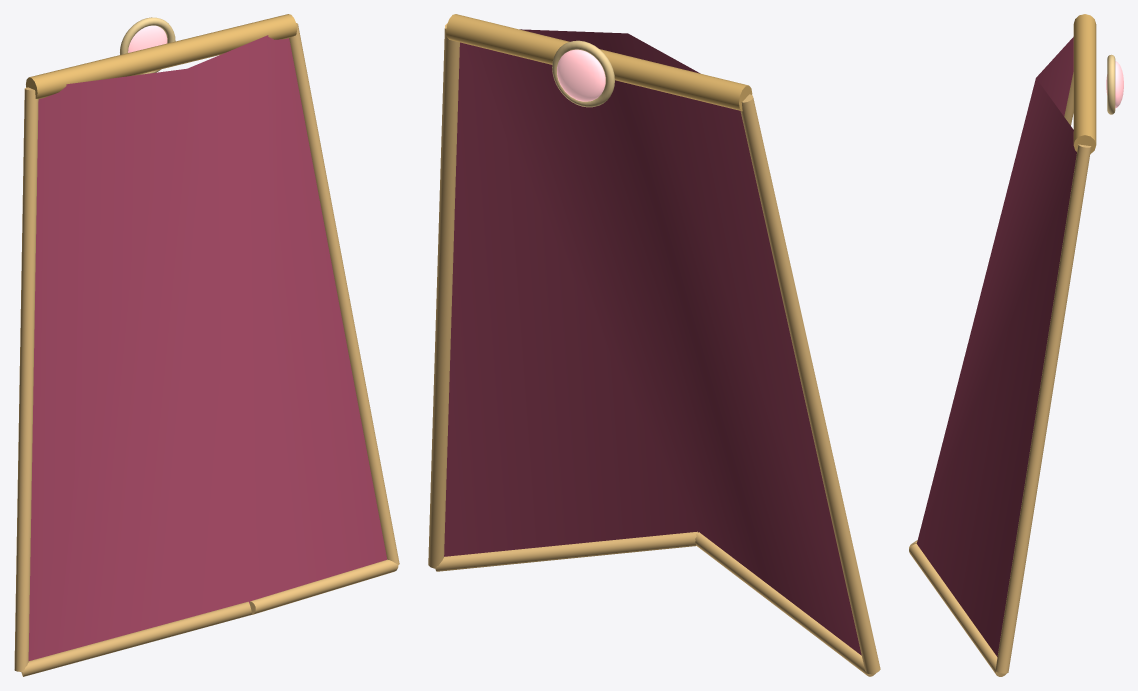
The model's file is cape.glb.
3 renders of one model, left to right at view 1: azimuth 30°, elevation 25°; view 2: azimuth 150°, elevation 25°; view 3: azimuth 270°, elevation 25°, orthographic. The views are drawn at different scales.
Parts seen in each view (by area): view 1: DrapedFabric, LeftHem, RightHem, Collar, ScallopHem, _MeshInstance3D_8, GoldBezel, EnamelGem; view 2: DrapedFabric, LeftHem, RightHem, Collar, _MeshInstance3D_8, ScallopHem, EnamelGem, GoldBezel; view 3: DrapedFabric, RightHem, Collar, _MeshInstance3D_8, GoldBezel, EnamelGem.
Part boxes in pixels (x1,y1,x2,y2): DrapedFabric: (28,35,387,660); LeftHem: (14,87,38,671); RightHem: (289,23,399,565); Collar: (26,14,297,98); ScallopHem: (21,601,251,676); _MeshInstance3D_8: (250,559,398,614); GoldBezel: (120,17,175,74); EnamelGem: (128,25,167,52); DrapedFabric: (444,29,861,655); LeftHem: (740,94,880,674); RightHem: (428,23,459,568); Collar: (446,14,752,111); _MeshInstance3D_8: (435,531,697,571); ScallopHem: (695,532,875,676); EnamelGem: (557,49,605,101); GoldBezel: (552,40,614,107); DrapedFabric: (916,36,1076,656); RightHem: (995,144,1091,673); Collar: (1073,14,1096,153); _MeshInstance3D_8: (909,544,1006,676); GoldBezel: (1107,54,1115,114); EnamelGem: (1106,61,1123,108).
Size of the model in its own units: 0.1145 by 0.1577 by 0.057.
